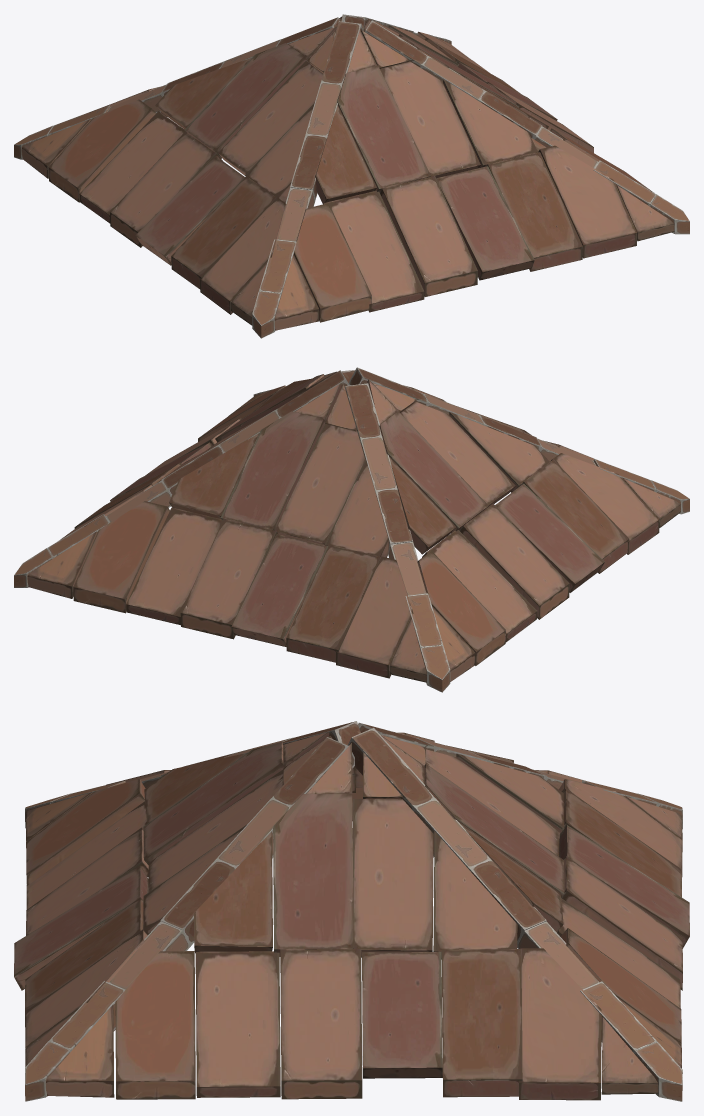
Rendered from brick-roof.glb.
3 views of the same model, one above another, from view 1: azimuth 30°, elevation 25°; view 2: azimuth 150°, elevation 25°; view 3: azimuth 270°, elevation 25° (orthographic). The views are drawn at different scales.
Parts seen in each view (by area): view 1: PBW_B1_RoofC.dmx-static; view 2: PBW_B1_RoofC.dmx-static; view 3: PBW_B1_RoofC.dmx-static.
Boxes of the visible parts, x1,y1,x2,y2 form: PBW_B1_RoofC.dmx-static: (14,14,689,338); PBW_B1_RoofC.dmx-static: (14,367,689,692); PBW_B1_RoofC.dmx-static: (14,721,689,1101).
Bounding box in the file's own units: 5.5 × 2.15 × 5.58.
Materials: 2 (2 with a texture image).
